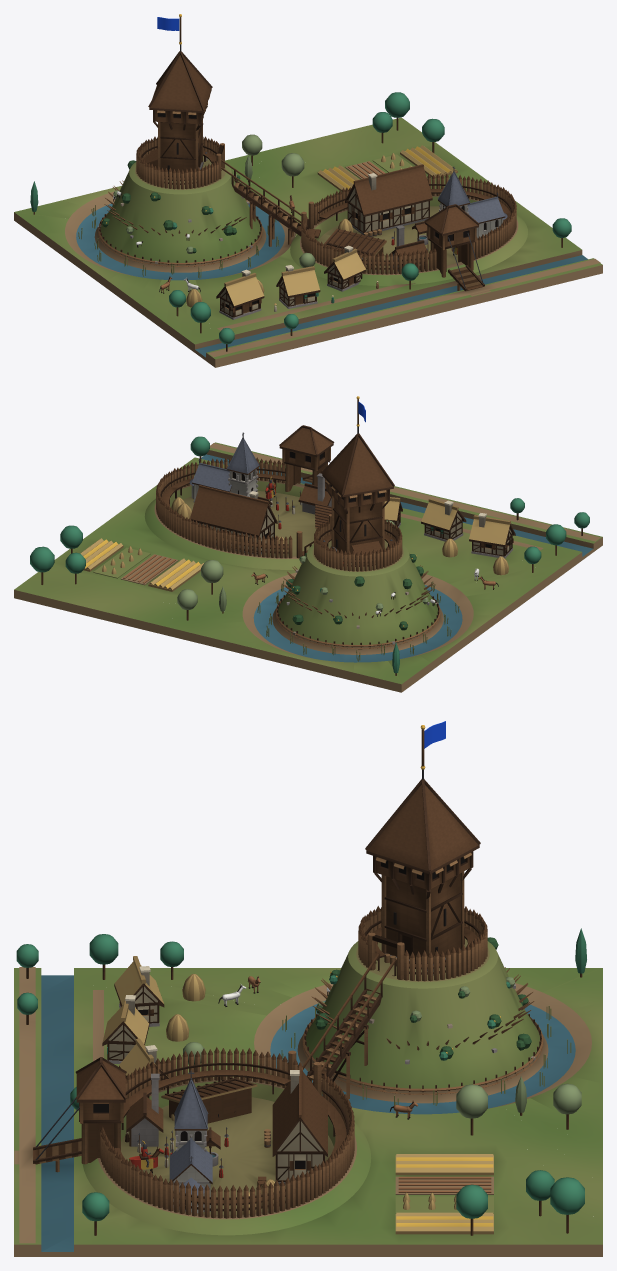
The model's file is lm_motte.glb.
3 renders of one model, top to bottom at view 1: azimuth 30°, elevation 25°; view 2: azimuth 150°, elevation 25°; view 3: azimuth 270°, elevation 25°, orthographic. The views are drawn at different scales.
Parts seen in each view (by area): view 1: lm_motte; view 2: lm_motte; view 3: lm_motte.
Boxes of the visible parts, x1,y1,x2,y2 form: lm_motte: (14, 14, 602, 367); lm_motte: (14, 396, 602, 692); lm_motte: (14, 721, 602, 1256).
Bounding box in the file's own units: 2.4 × 1.34 × 2.16.
1 material, 1 textured.
